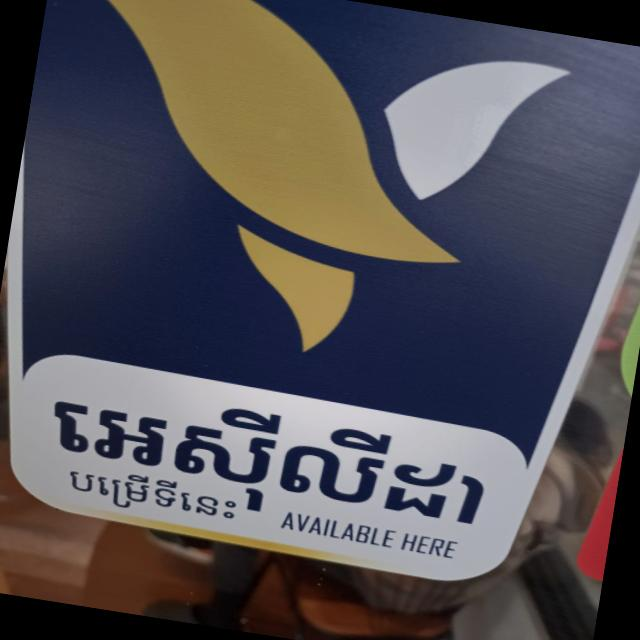Yolov11kh: (49, 362, 504, 540), (61, 457, 242, 526)
